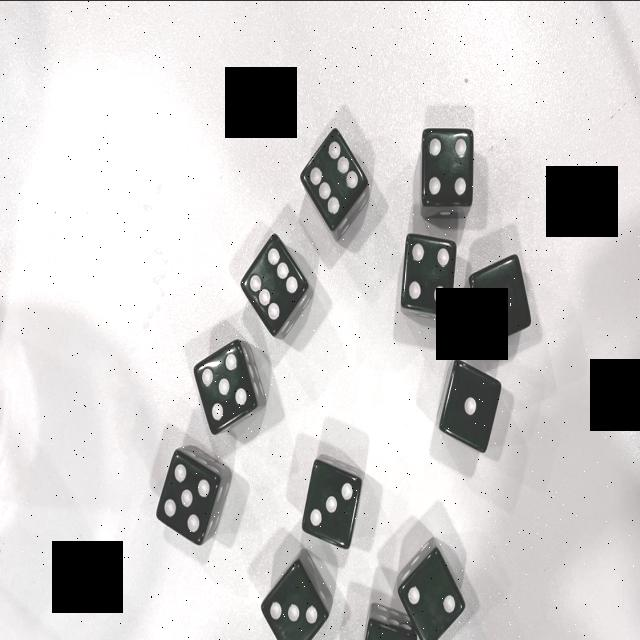DICE1: (486, 266, 525, 348), (446, 384, 491, 449)
DICE2: (394, 546, 472, 640), (351, 614, 428, 640)
DICE3: (292, 394, 367, 566), (250, 557, 324, 640)
DICE4: (407, 120, 488, 226), (402, 226, 454, 335)
DICE5: (172, 332, 266, 442), (150, 441, 222, 566)
DICE6: (220, 210, 316, 372), (288, 109, 362, 248)
